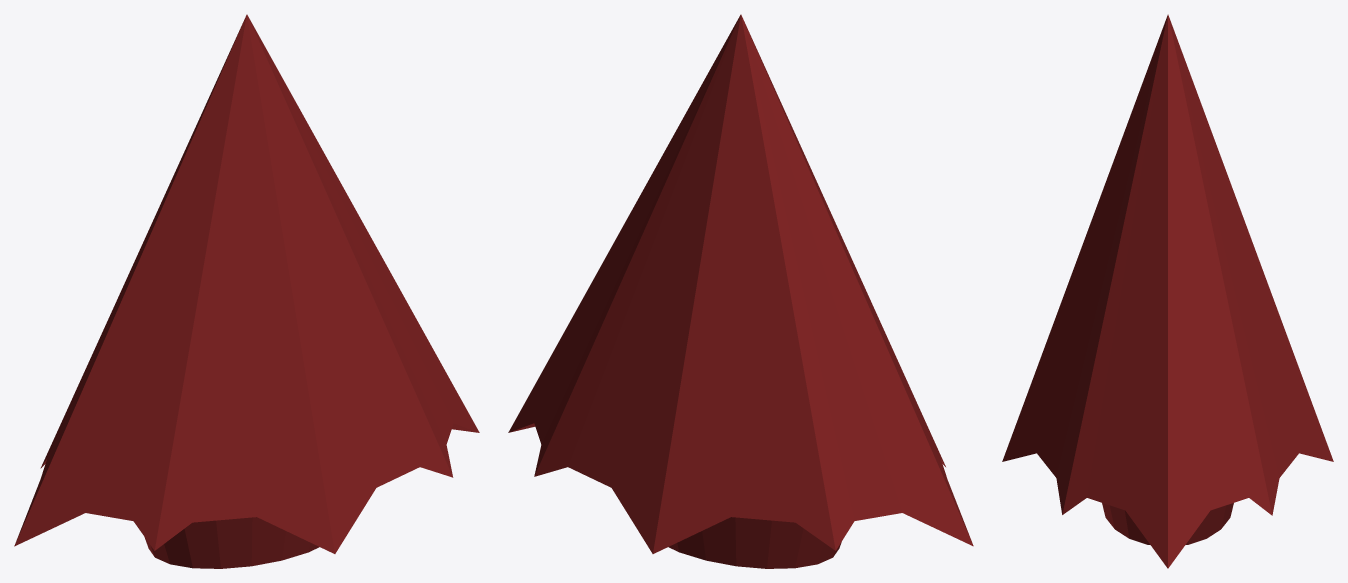
Rendered from Kamikaze.fbx.
3 renders of one model, left to right at view 1: azimuth 30°, elevation 25°; view 2: azimuth 150°, elevation 25°; view 3: azimuth 270°, elevation 25°, orthographic. The views are drawn at different scales.
Visible parts, largest first — view 1: Kamikaze1; view 2: Kamikaze1; view 3: Kamikaze1.
Part boxes in pixels (x1=…): Kamikaze1: x1=14, y1=14, x2=479, y2=568; Kamikaze1: x1=508, y1=14, x2=973, y2=568; Kamikaze1: x1=1002, y1=14, x2=1333, y2=568.
Size of the model in its own units: 1.77 by 1.89 by 1.16.
